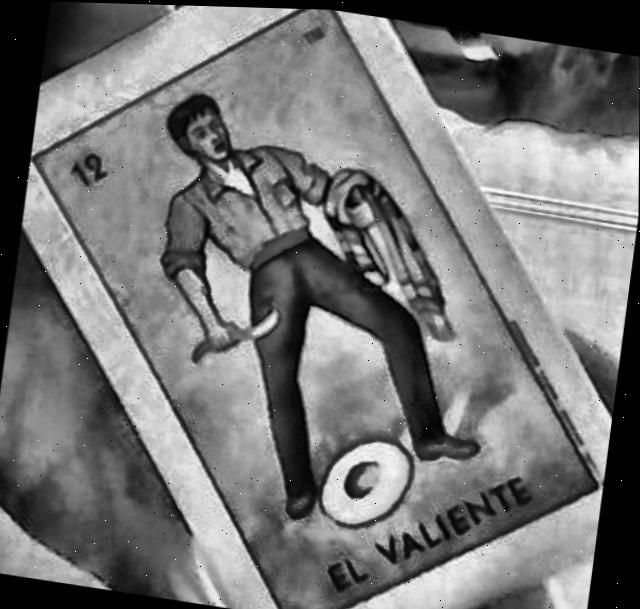El Valiente: (33, 7, 596, 609)
